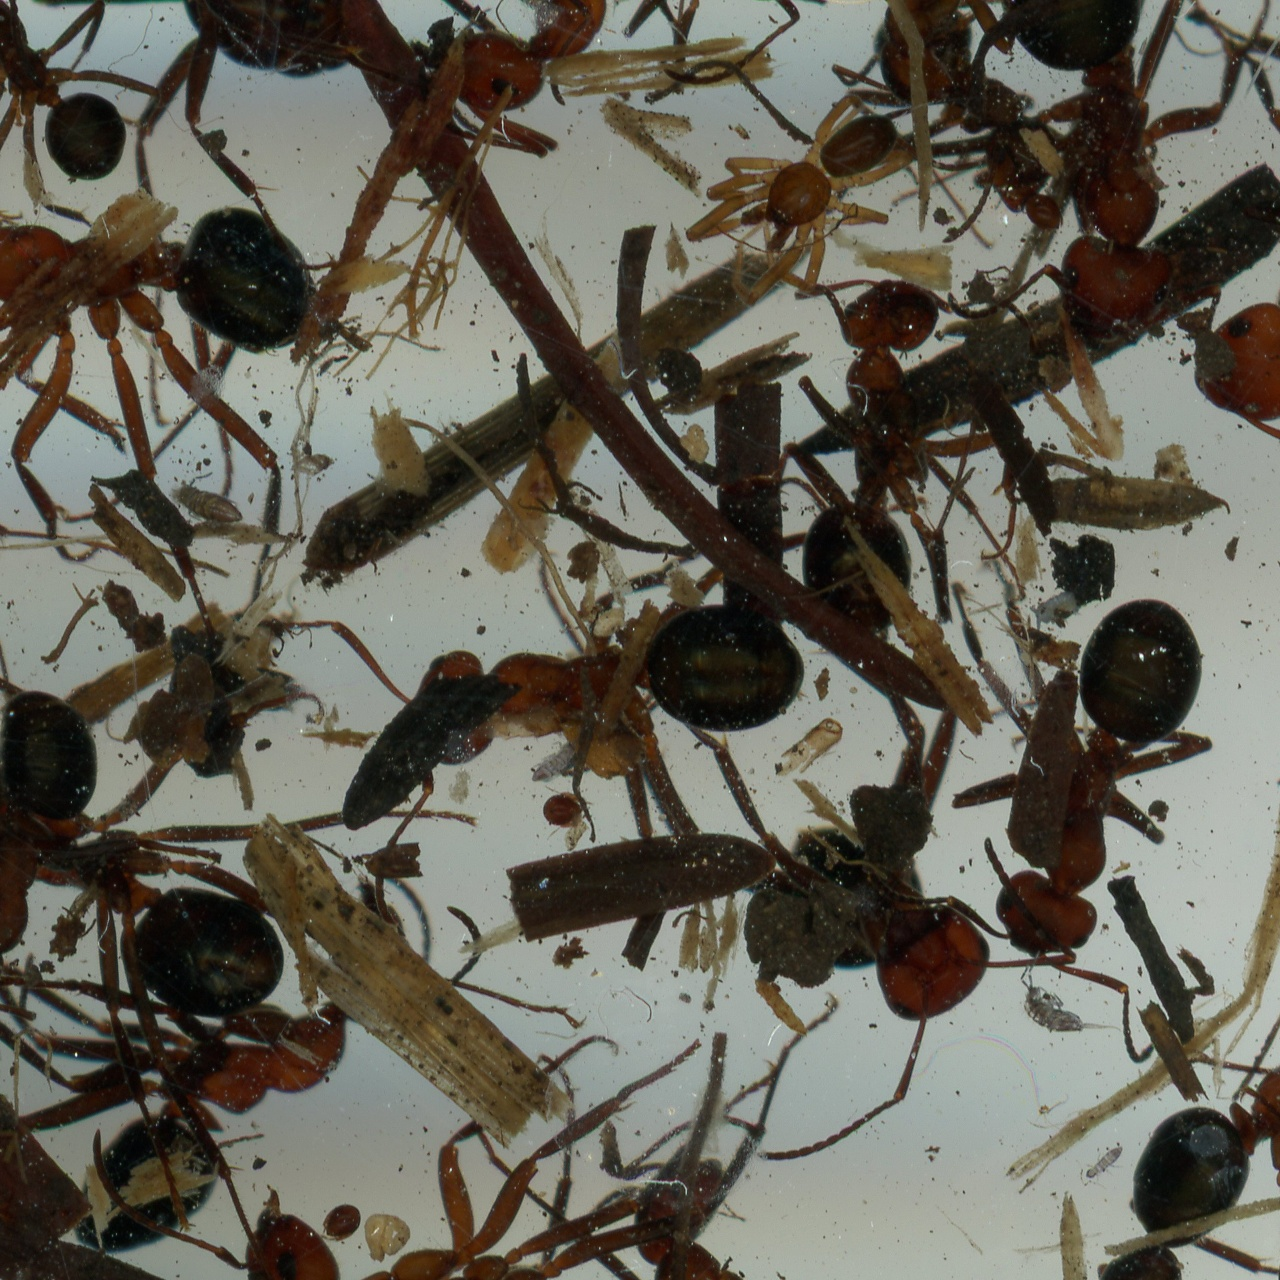arthropod: (260, 498, 822, 929), (698, 678, 1149, 1162), (0, 626, 370, 1102), (79, 1029, 703, 1280), (0, 180, 341, 586), (945, 600, 1216, 1069), (934, 0, 1277, 351), (0, 0, 475, 219), (659, 47, 980, 361), (46, 995, 363, 1259), (1113, 844, 1280, 1280), (759, 279, 970, 623), (381, 0, 735, 196), (597, 1127, 1047, 1280), (1159, 17, 1280, 467), (0, 646, 124, 1063), (0, 0, 191, 205), (815, 0, 1127, 114), (525, 0, 842, 95), (647, 0, 966, 91), (1052, 1226, 1280, 1280), (1015, 958, 1131, 1039), (172, 465, 253, 537), (519, 729, 591, 799), (315, 1194, 370, 1252), (1028, 579, 1085, 630), (1073, 1141, 1128, 1189), (539, 793, 591, 831)
